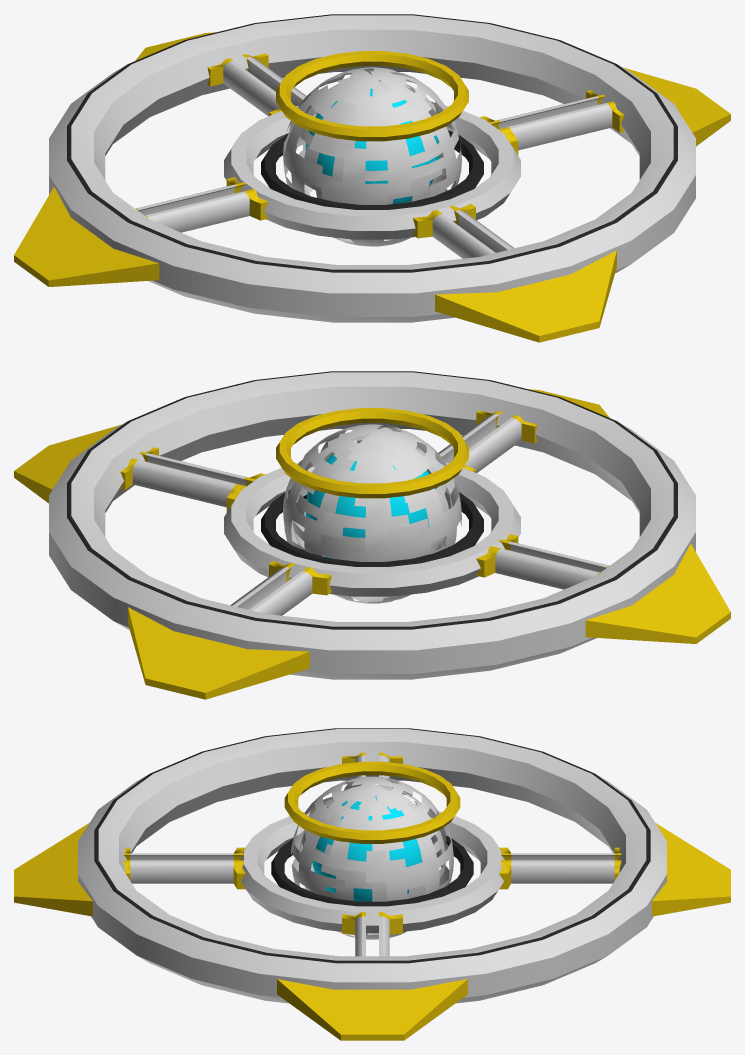
The model's file is SM_Satellite_Powerstation.fbx.
3 renders of one model, top to bottom at view 1: azimuth 30°, elevation 25°; view 2: azimuth 150°, elevation 25°; view 3: azimuth 270°, elevation 25°, orthographic. The views are drawn at different scales.
Parts seen in each view (by area): view 1: SM_Satellite_Powerstation; view 2: SM_Satellite_Powerstation; view 3: SM_Satellite_Powerstation.
Boxes of the visible parts, <box> form: SM_Satellite_Powerstation: <box>14,14,730,342</box>; SM_Satellite_Powerstation: <box>14,371,730,699</box>; SM_Satellite_Powerstation: <box>14,728,730,1040</box>.
Bounding box in the file's own units: 1052 × 240 × 1052.
